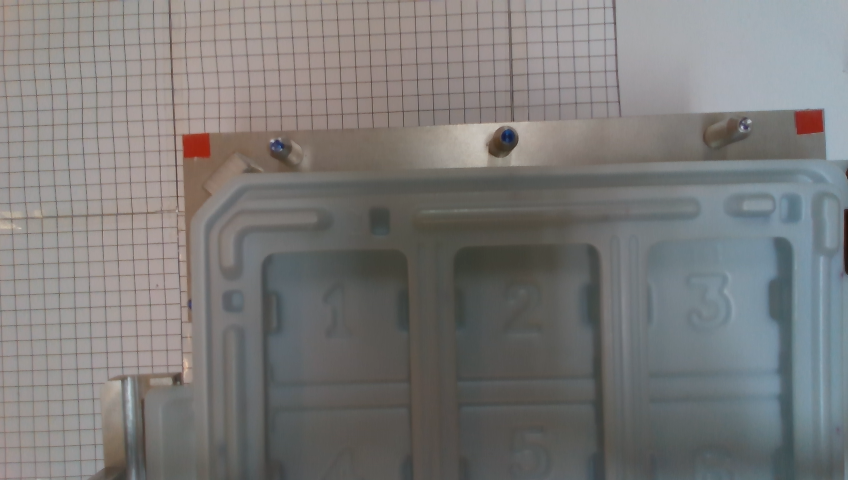red: (796, 109, 823, 134), (183, 134, 210, 158)
